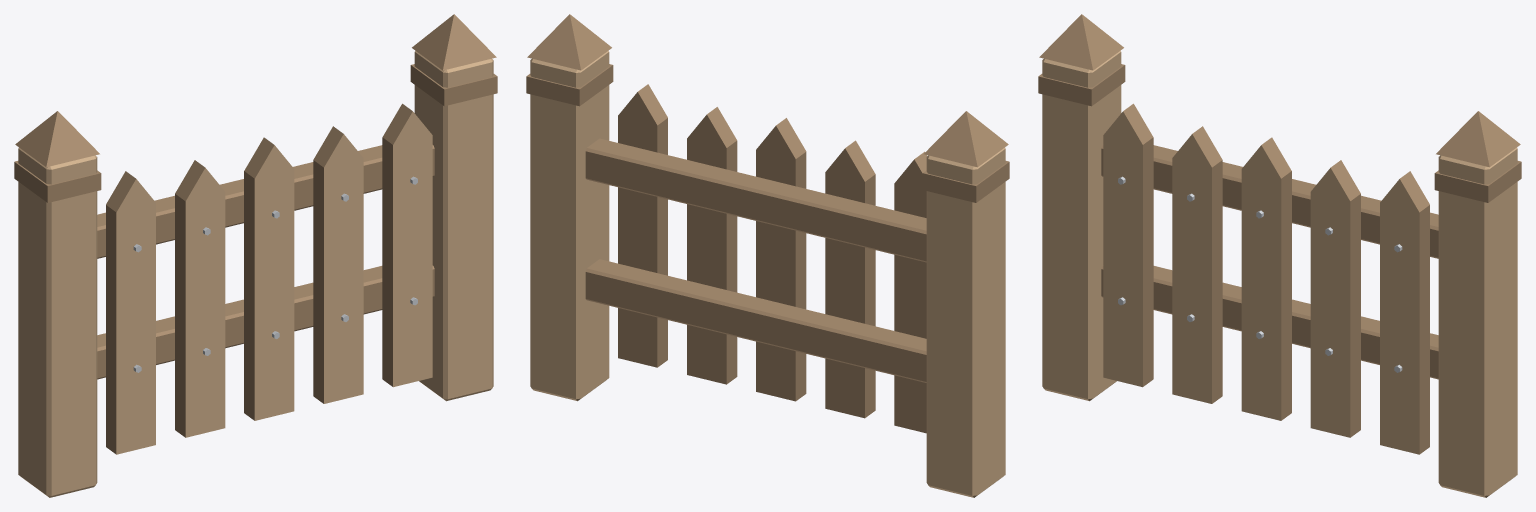
File: prop_fence.glb
3 views of the same model, side by side, from view 1: azimuth 30°, elevation 25°; view 2: azimuth 150°, elevation 25°; view 3: azimuth 330°, elevation 25° (orthographic).
Visible parts, largest first — view 1: prop_fence; view 2: prop_fence; view 3: prop_fence.
Part boxes in pixels (x1=…): prop_fence: x1=14, y1=14, x2=497, y2=497; prop_fence: x1=526, y1=14, x2=1009, y2=497; prop_fence: x1=1038, y1=14, x2=1521, y2=497.
Bounding box in the file's own units: 0.9774 × 0.77 × 0.142.
